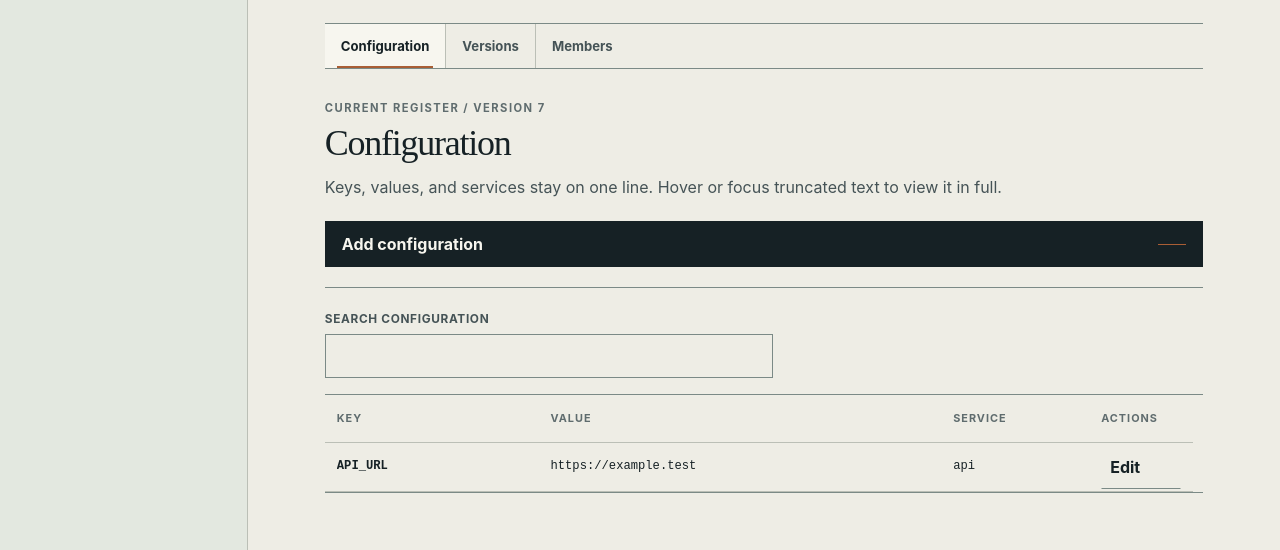
Scenario: ProjectPage › saves one batch and refreshes version history through the shared epoch
The width and height of the screenshot is (1280, 550).
(page scrolled)
Click the button with aria-label "Edit API_URL".
click(1141, 467)  # box [1101,445,1181,489]
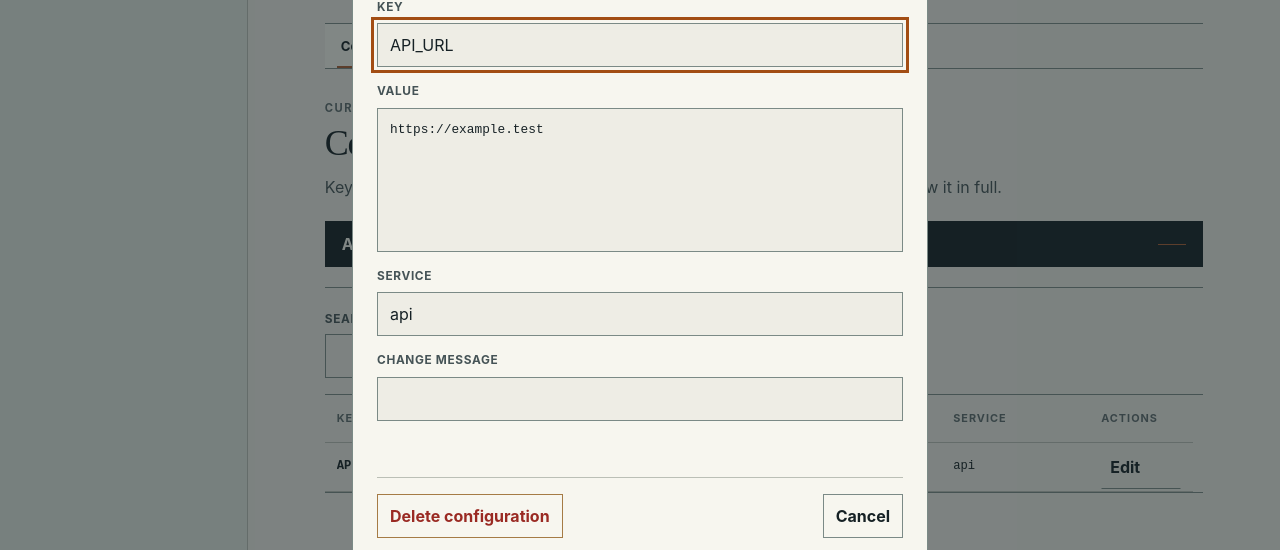
Replace the text in the text box labelled "Value" with "https://next.test" at x=640, y=180, box [377,108,903,252]
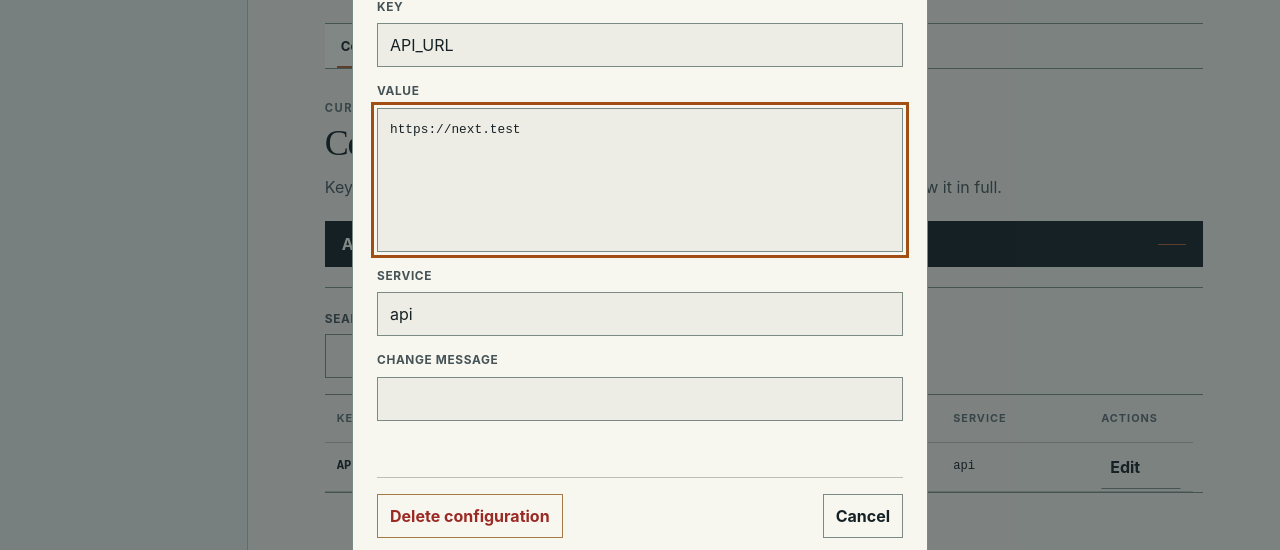
Type "update URL" into the field labelled "Change message".
click(640, 399); type("update URL")  # box [377,377,903,421]
(page scrolled)
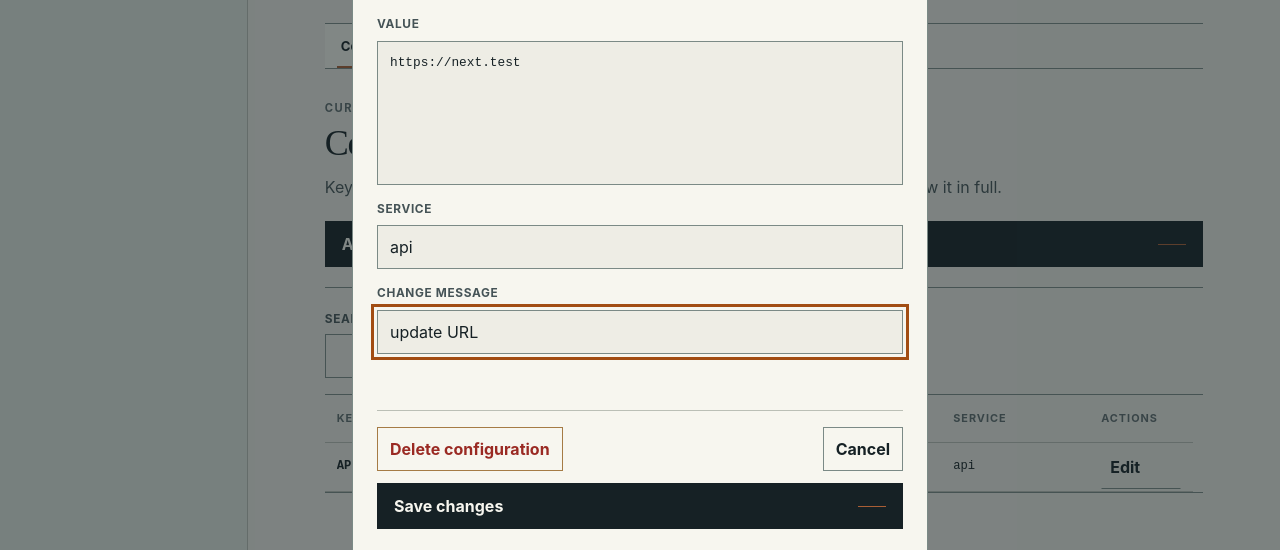
Click the button "Save changes".
click(449, 506)  # box [377,483,903,529]
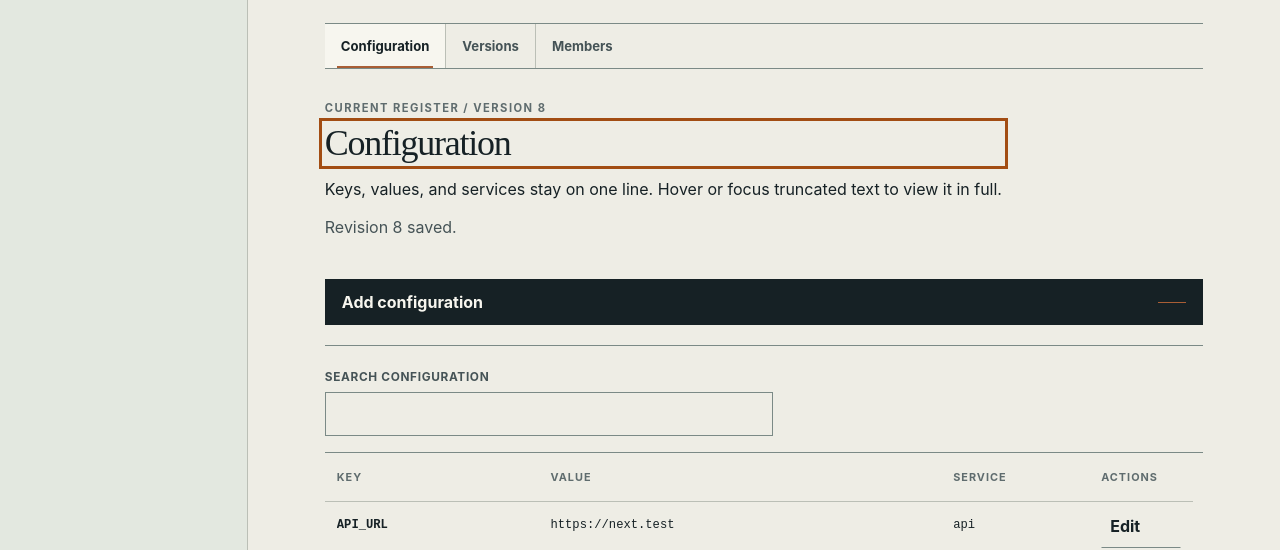
Check: the text with test id "configuration-value-API_URL" reads "https://next.test", box [550,518,674,532]
Click the tab "Versions".
click(490, 46)  # box [445,24,535,68]
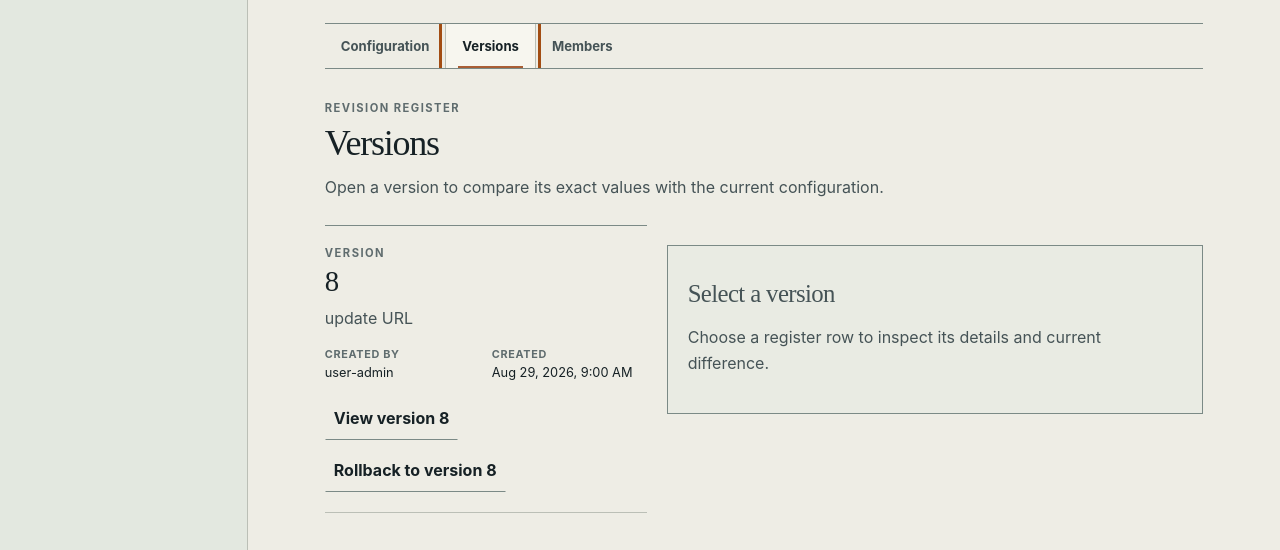
Check: the text "update URL" is shown, box [325,308,413,328]
